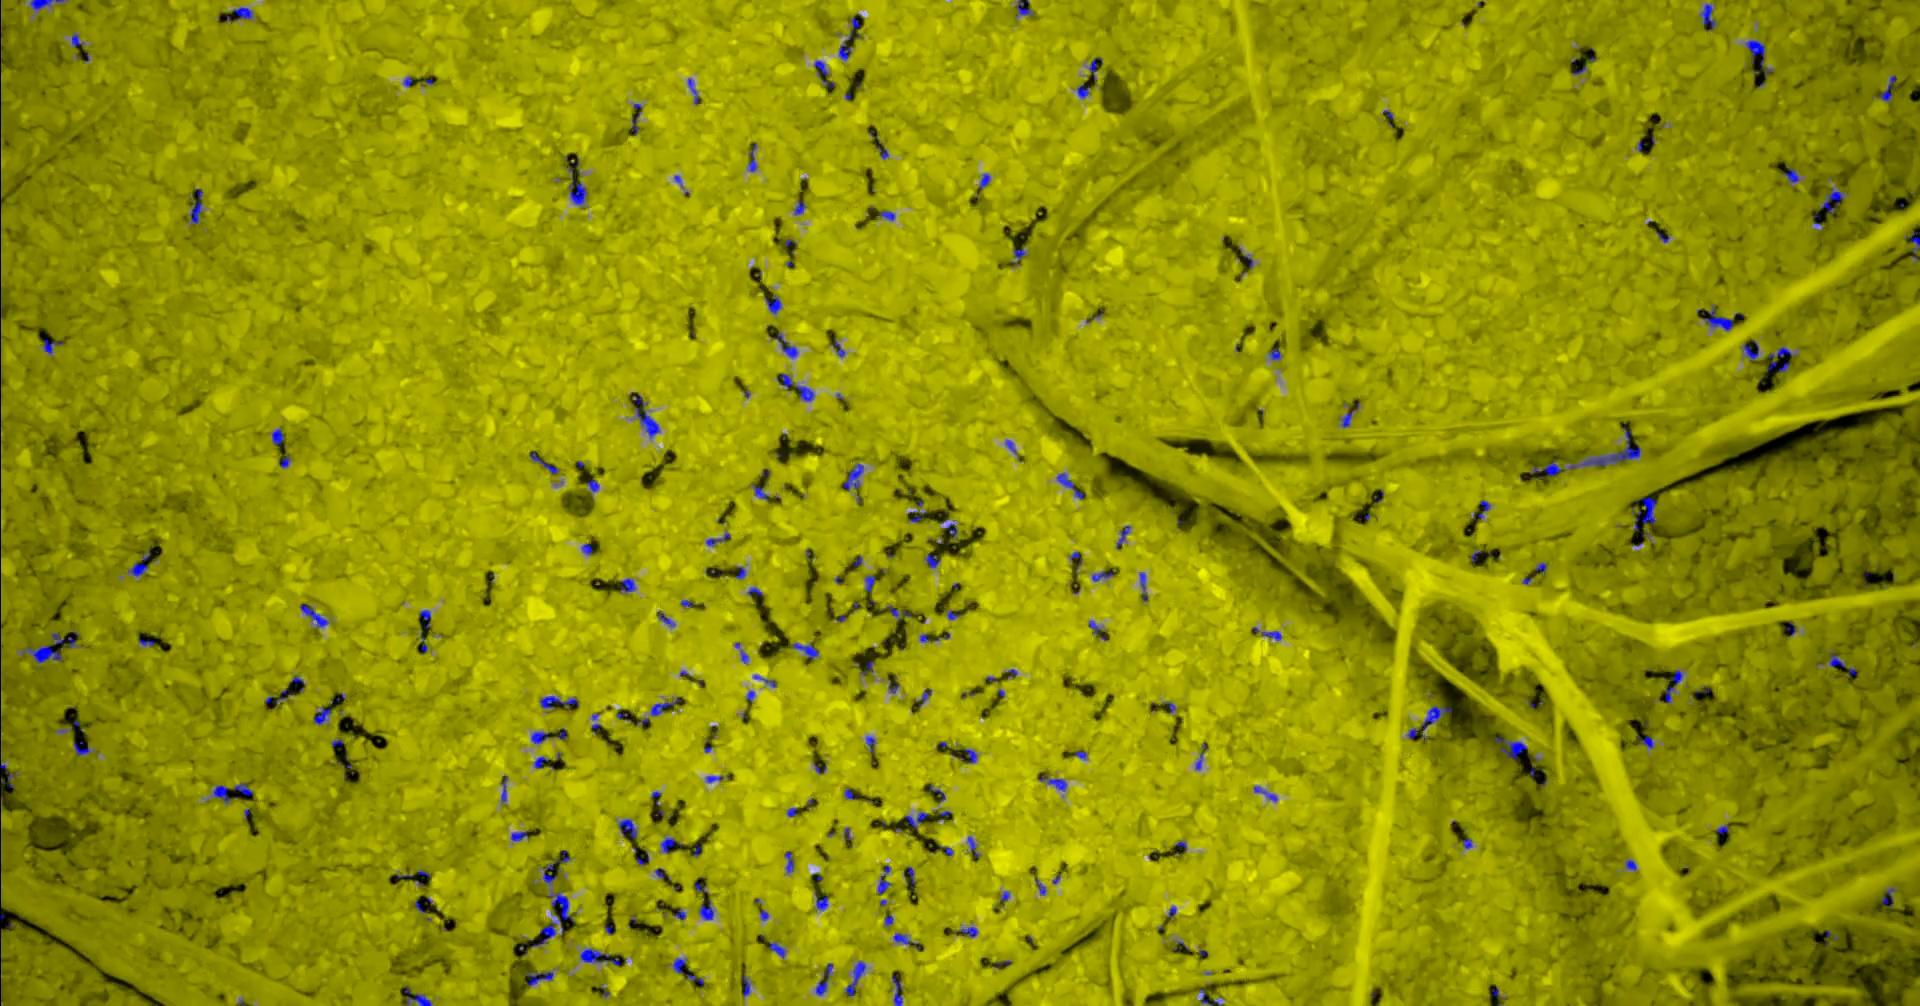ant: (1570, 427, 1641, 467), (530, 890, 574, 946), (22, 631, 79, 663), (1406, 705, 1451, 738), (630, 391, 659, 437), (776, 373, 814, 401), (1745, 39, 1771, 77), (1697, 304, 1732, 330), (1630, 495, 1657, 530), (672, 958, 703, 984), (1495, 735, 1528, 760), (1057, 473, 1084, 499), (579, 948, 618, 965), (568, 166, 585, 205), (1818, 187, 1844, 213), (127, 547, 151, 575), (844, 962, 865, 995), (298, 605, 328, 627), (773, 332, 797, 358), (1768, 345, 1792, 372), (530, 451, 557, 474), (1663, 669, 1683, 702), (1531, 461, 1564, 479), (842, 464, 863, 489), (814, 60, 834, 86), (1874, 75, 1895, 102), (815, 963, 832, 995), (538, 695, 578, 708), (650, 697, 678, 715), (791, 641, 818, 659), (404, 987, 430, 1005), (1037, 775, 1065, 791), (189, 188, 202, 224), (903, 812, 927, 829), (1251, 626, 1281, 640), (891, 934, 919, 949), (524, 970, 552, 986), (1905, 231, 1919, 260), (212, 785, 235, 803), (1253, 785, 1277, 801), (265, 688, 293, 702), (1700, 3, 1716, 28), (1199, 988, 1222, 1005), (886, 605, 910, 620), (1088, 620, 1106, 640), (618, 818, 636, 838), (0, 760, 13, 788), (1470, 500, 1490, 518), (705, 532, 729, 546), (42, 338, 63, 353), (542, 862, 557, 884), (631, 103, 641, 135), (1088, 57, 1102, 80), (1116, 525, 1130, 547), (29, 0, 65, 9), (763, 295, 781, 312), (312, 706, 330, 724), (942, 518, 957, 539), (891, 976, 902, 1005), (687, 77, 698, 103), (1742, 340, 1757, 359), (232, 782, 253, 796), (1340, 409, 1355, 427), (752, 483, 767, 500), (1011, 246, 1025, 265), (877, 875, 891, 894), (1881, 887, 1895, 906), (698, 901, 712, 920), (848, 17, 860, 39), (838, 39, 851, 60), (903, 866, 916, 887), (1016, 0, 1032, 15), (1783, 166, 1799, 182), (768, 942, 785, 958), (530, 730, 549, 743), (1829, 653, 1845, 667), (72, 741, 89, 754), (660, 837, 674, 854), (1636, 735, 1653, 748), (748, 142, 756, 171), (1091, 570, 1112, 580), (232, 8, 251, 19), (419, 608, 430, 627), (1076, 83, 1090, 98), (924, 553, 940, 567), (1139, 572, 1147, 600), (270, 428, 283, 445), (618, 578, 635, 591), (1783, 620, 1796, 636), (875, 210, 895, 220), (907, 511, 924, 522), (959, 926, 977, 937), (963, 748, 977, 762), (533, 756, 549, 768), (783, 851, 792, 873), (863, 575, 875, 592), (510, 829, 528, 840), (742, 976, 750, 996), (792, 199, 805, 213), (978, 173, 989, 188), (500, 775, 507, 801), (815, 895, 827, 909), (1269, 348, 1280, 359)
